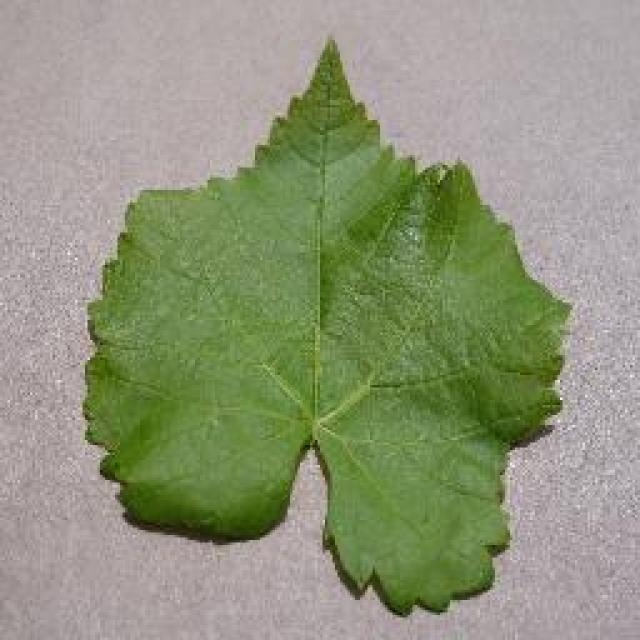Healthy: (84, 25, 584, 639)
